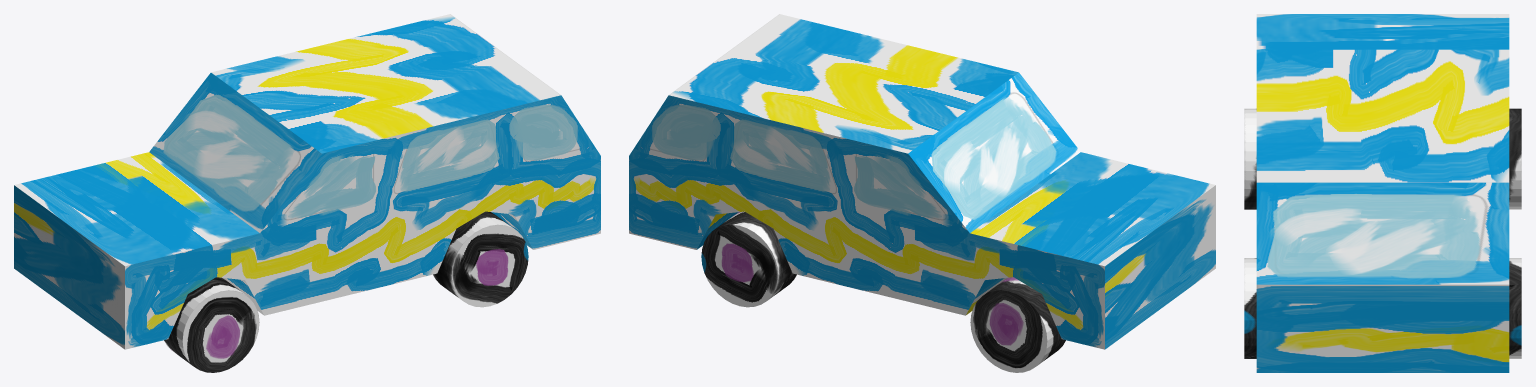
The model's file is CarModelWheels.fbx.
3 views of the same model, side by side, from view 1: azimuth 30°, elevation 25°; view 2: azimuth 150°, elevation 25°; view 3: azimuth 270°, elevation 25° (orthographic). The views are drawn at different scales.
Visible parts, largest first — view 1: Cube, Cylinder.003, Cylinder.002; view 2: Cube, Cylinder.001, Cylinder.004; view 3: Cube, Cylinder.002, Cylinder.004, Cylinder.003, Cylinder.001.
Boxes of the visible parts, x1,y1,x2,y2 form: Cube: (14,14,600,349); Cylinder.003: (433,211,528,307); Cylinder.002: (164,277,259,372); Cube: (629,14,1215,349); Cylinder.001: (701,211,796,307); Cylinder.004: (970,277,1065,372); Cube: (1256,14,1509,372); Cylinder.002: (1244,108,1256,209); Cylinder.004: (1509,108,1521,209); Cylinder.003: (1244,258,1256,358); Cylinder.001: (1509,258,1521,358).
Bounding box in the file's own units: 495 × 187 × 220.
